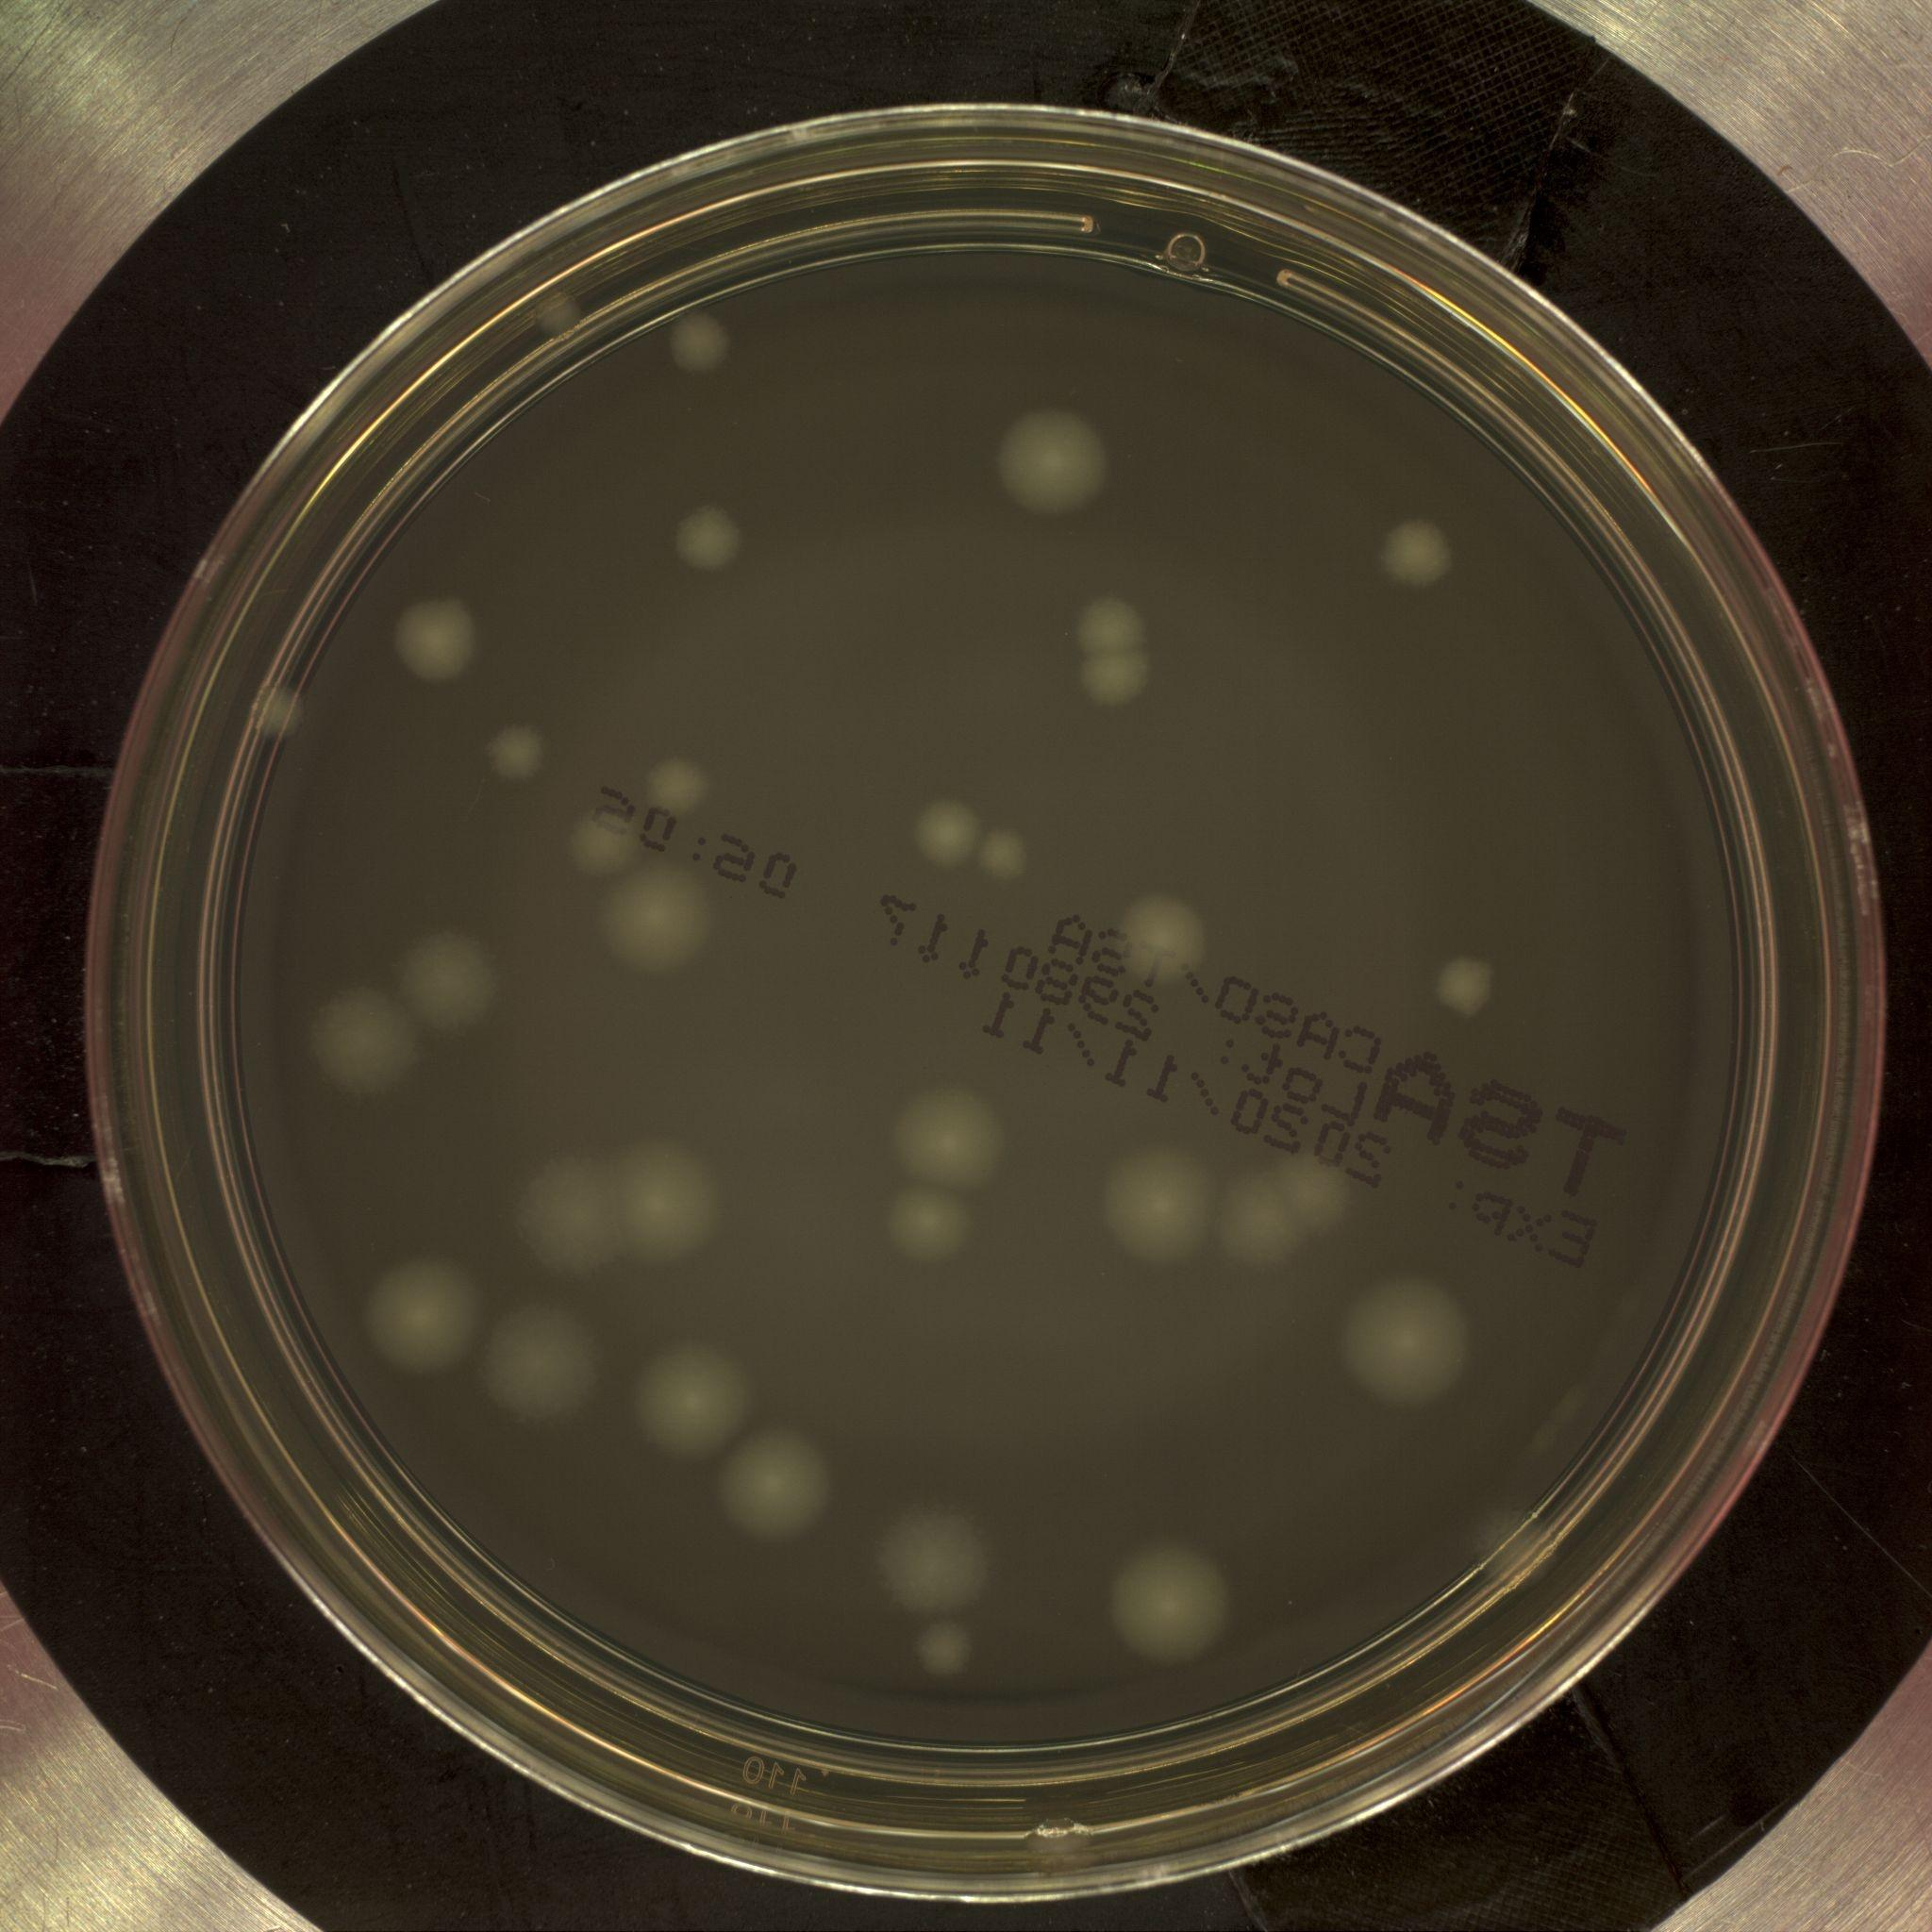e. coli: (1341, 1274, 1472, 1417), (508, 1143, 644, 1278), (696, 1417, 833, 1549), (1105, 1141, 1234, 1281), (1109, 1545, 1236, 1684), (479, 1302, 605, 1426), (371, 1257, 491, 1382), (600, 1132, 715, 1262), (874, 1500, 1003, 1615), (633, 1340, 758, 1457), (300, 981, 421, 1094), (993, 404, 1107, 524), (890, 1075, 1008, 1187), (600, 866, 718, 976), (404, 923, 503, 1040), (1119, 885, 1212, 986), (1215, 1165, 1293, 1281), (1374, 508, 1457, 608), (397, 594, 484, 684), (880, 1177, 977, 1257), (1272, 1146, 1359, 1231), (663, 495, 751, 580), (1075, 641, 1158, 715), (906, 1606, 982, 1684), (1427, 941, 1500, 1021), (572, 800, 644, 875), (663, 309, 734, 385), (1074, 590, 1151, 658), (911, 788, 984, 860), (243, 672, 312, 741), (647, 755, 715, 821), (482, 719, 548, 778), (976, 828, 1041, 887)
